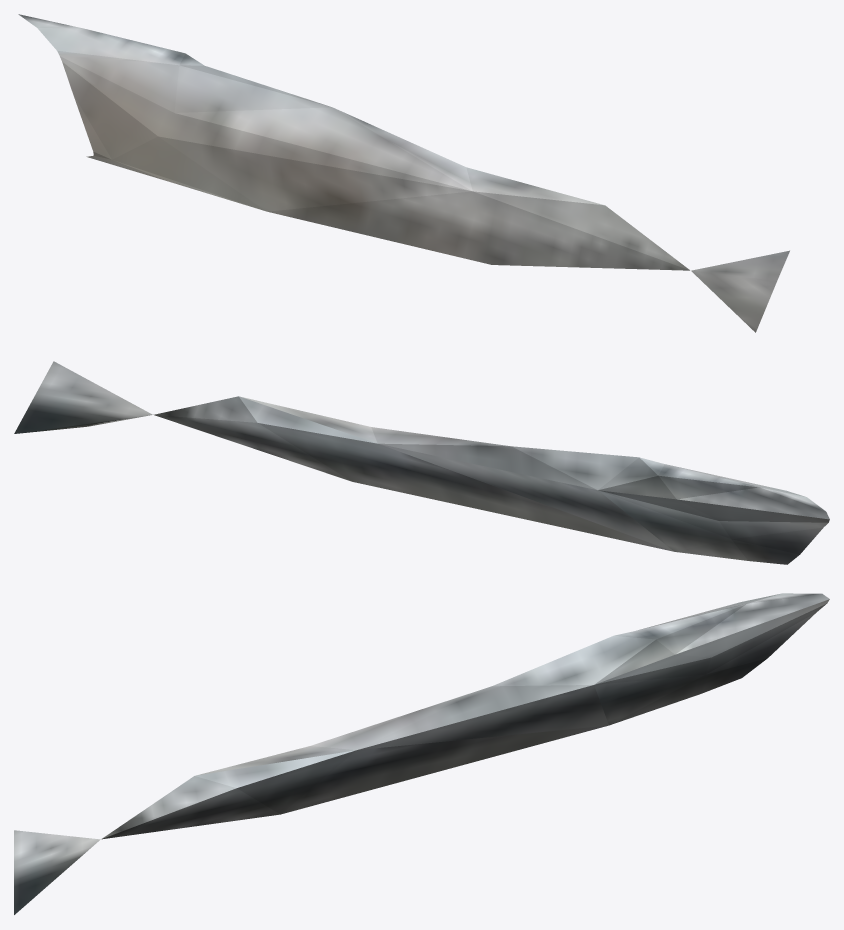
The picture shows the model from 3 angles, top to bottom: view 1: azimuth 30°, elevation 25°; view 2: azimuth 210°, elevation 25°; view 3: azimuth 270°, elevation 25°; orthographic projection. The views are drawn at different scales.
Bounding box in the file's own units: 0.9968 × 0.2757 × 1.62.
1 material, 1 textured.
